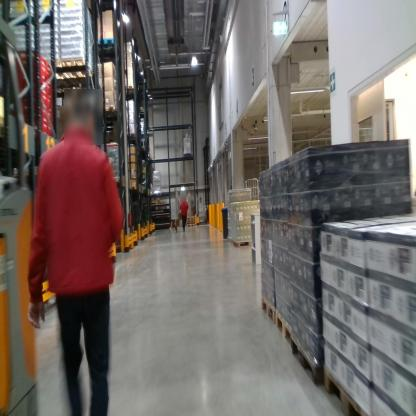forklift: (1, 18, 42, 414)
pallet: (319, 358, 370, 416), (287, 326, 325, 392), (57, 56, 98, 91), (272, 304, 292, 349), (260, 293, 276, 328), (96, 35, 116, 52), (234, 234, 254, 249), (102, 104, 120, 118), (122, 83, 135, 93), (227, 235, 231, 244), (230, 238, 234, 246)
